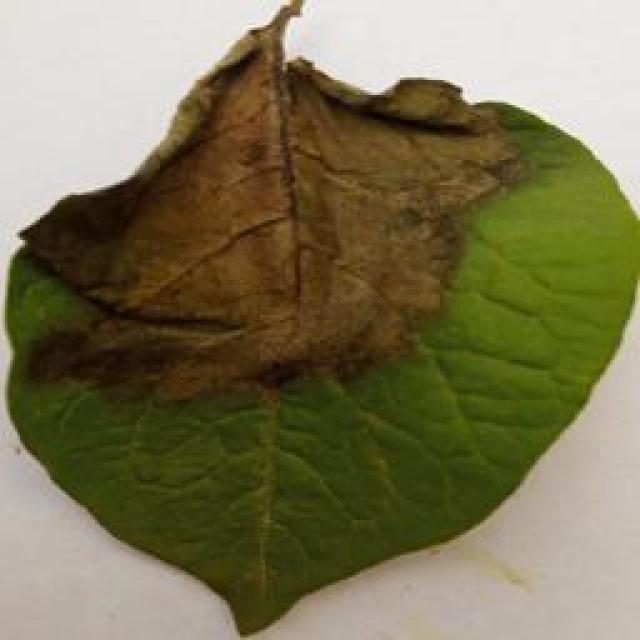Potato_Late_Blight: (0, 5, 628, 633)
